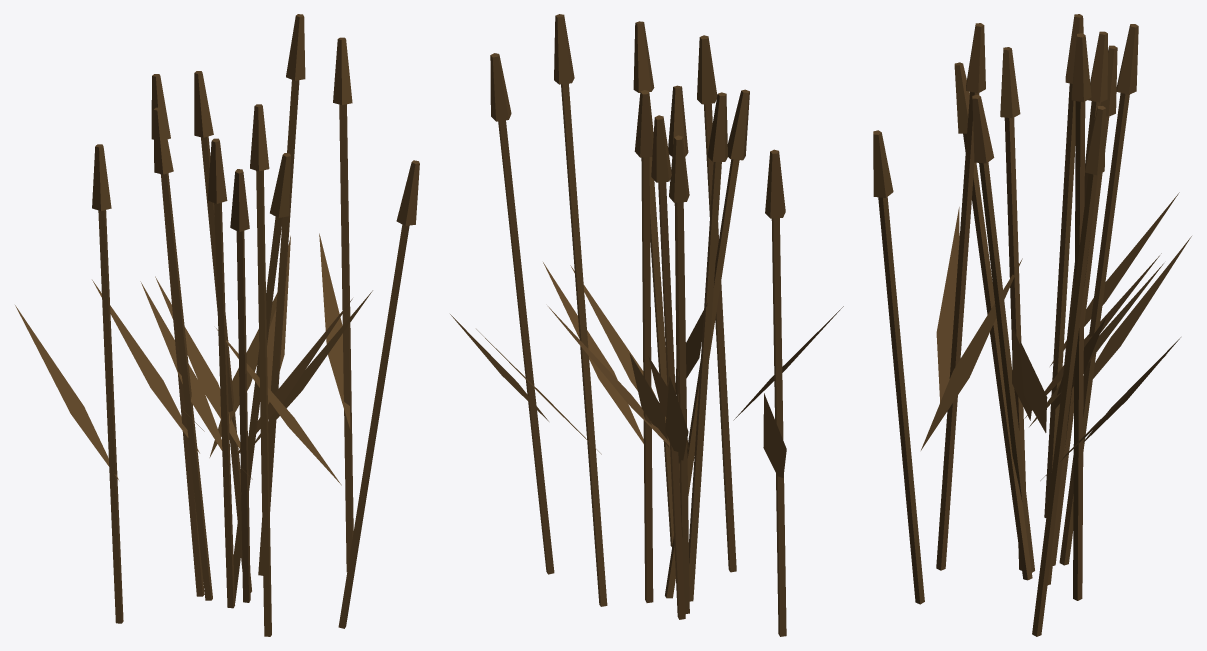
File: wheat_blight.glb
3 views of the same model, side by side, from view 1: azimuth 30°, elevation 25°; view 2: azimuth 150°, elevation 25°; view 3: azimuth 270°, elevation 25° (orthographic). The views are drawn at different scales.
Parts seen in each view (by area): view 1: wheat; view 2: wheat; view 3: wheat.
Part boxes in pixels (x1,y1,x2,y2): wheat: (15,14,419,636); wheat: (450,14,843,636); wheat: (873,14,1191,636).
Bounding box in the file's own units: 0.4706 × 0.8182 × 0.4051.
